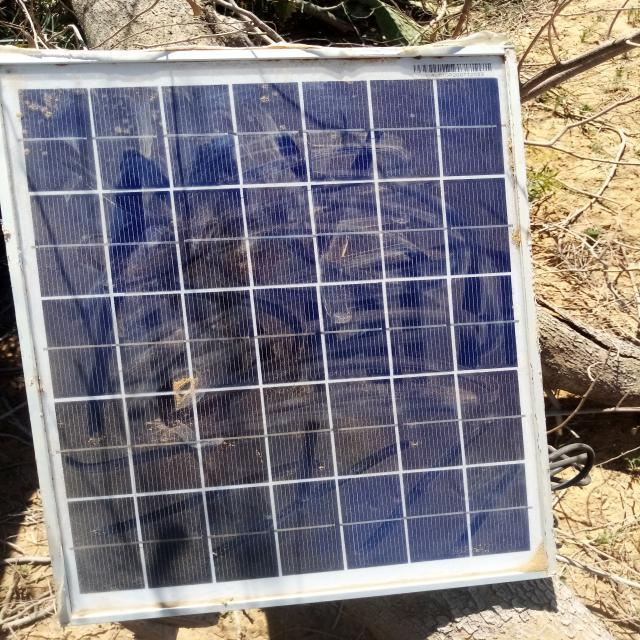faulty: (4, 46, 554, 625)
